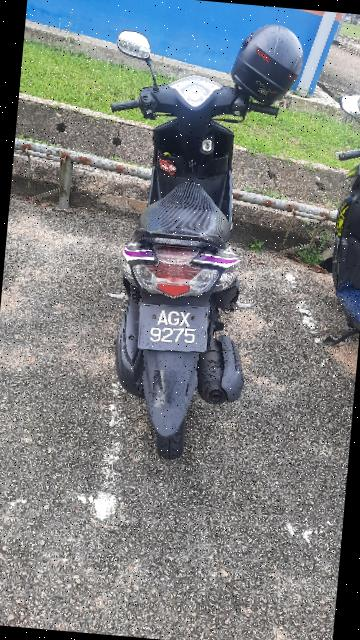License_Plate: (105, 298, 241, 368)
motorcycle: (66, 23, 309, 477)
